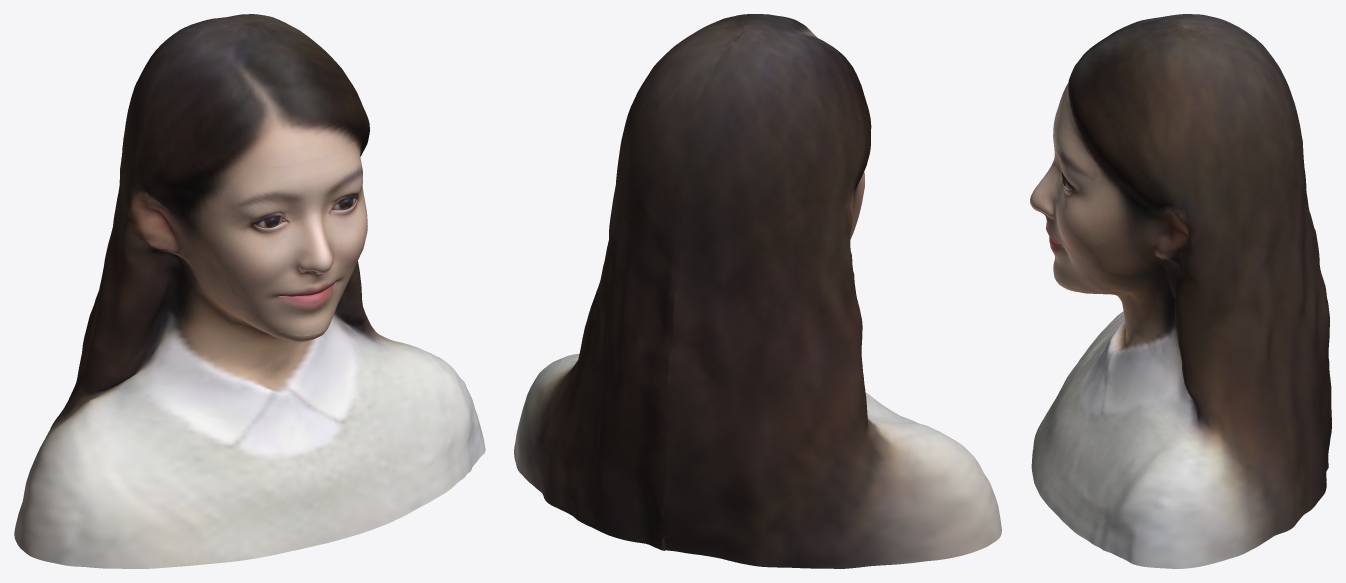
Rendered from asset.glb.
3 renders of one model, left to right at view 1: azimuth 30°, elevation 25°; view 2: azimuth 150°, elevation 25°; view 3: azimuth 270°, elevation 25°, orthographic. The views are drawn at different scales.
Visible parts, largest first — view 1: model; view 2: model; view 3: model.
Part boxes in pixels (left/top/right/bottom): model: left=14, top=14, right=485, bottom=568; model: left=514, top=14, right=1001, bottom=568; model: left=1030, top=14, right=1331, bottom=568.
Size of the model in its own units: 0.3961 by 0.3825 by 0.2377.
1 material, 1 textured.
